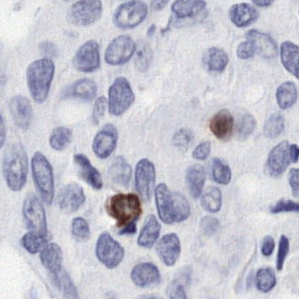Lymphocyte: (108, 192, 144, 226)
